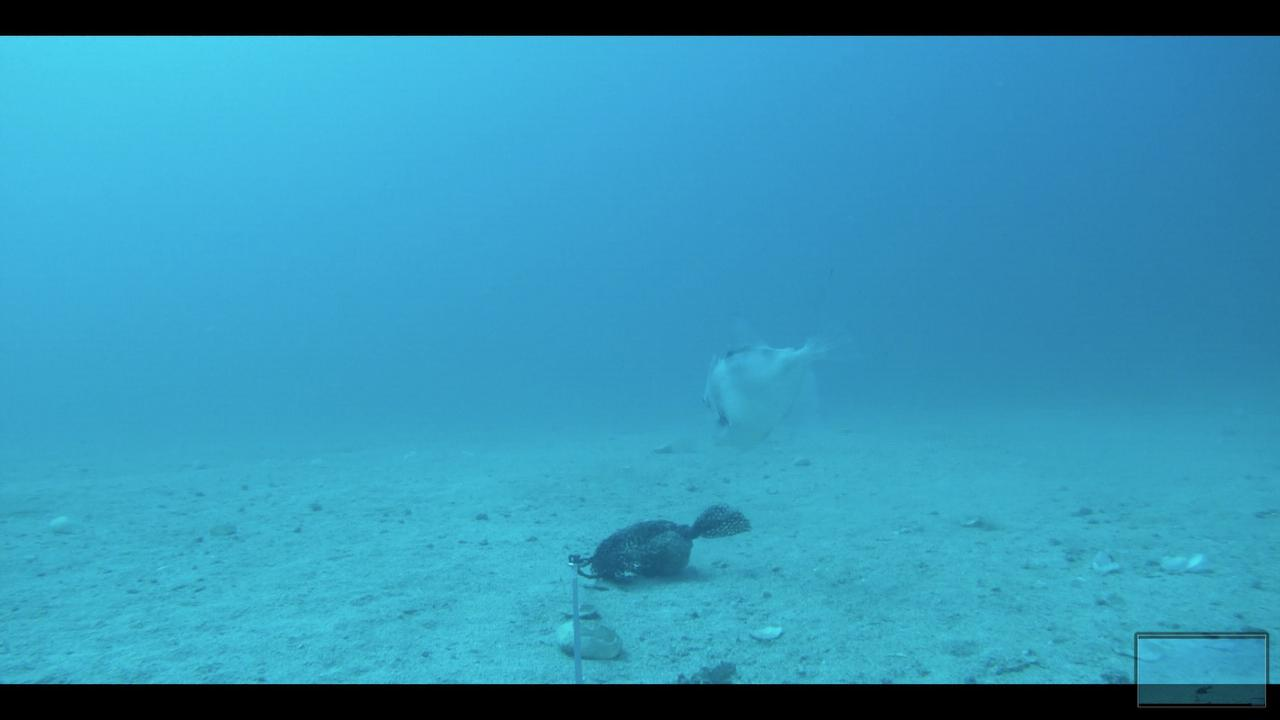balistes: (697, 266, 882, 453)
